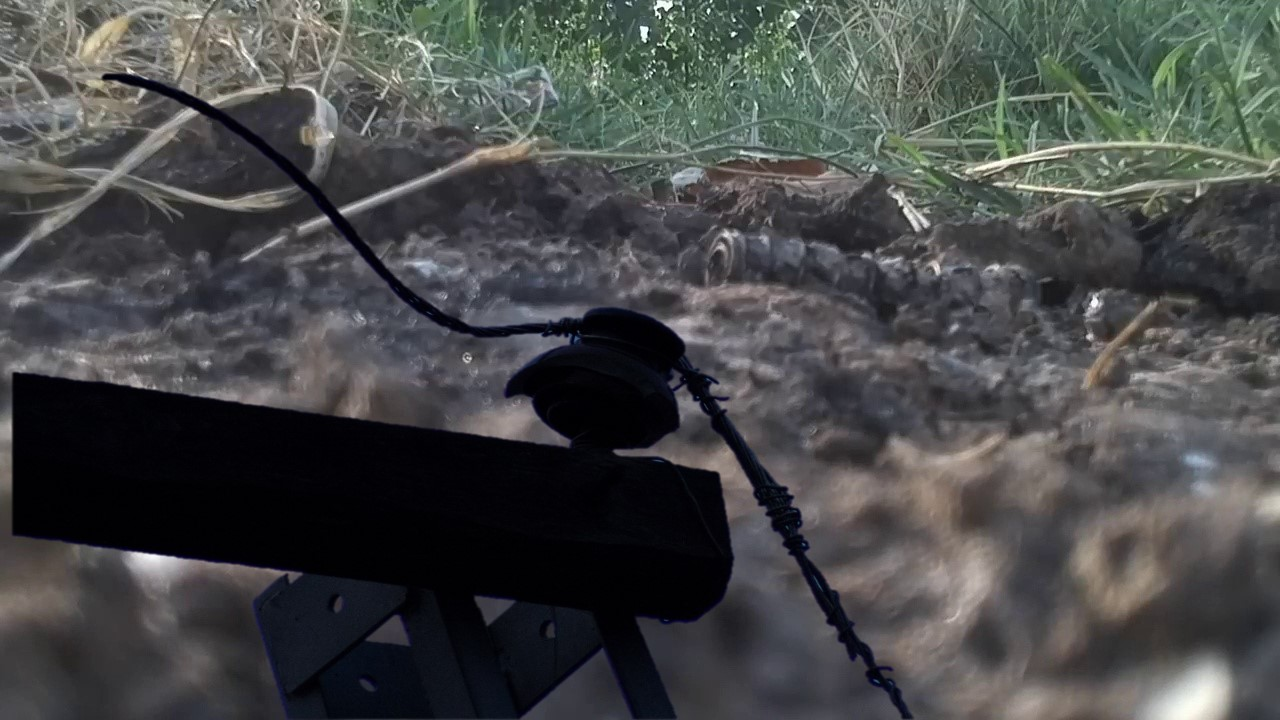defect_pin: (502, 300, 696, 461)
